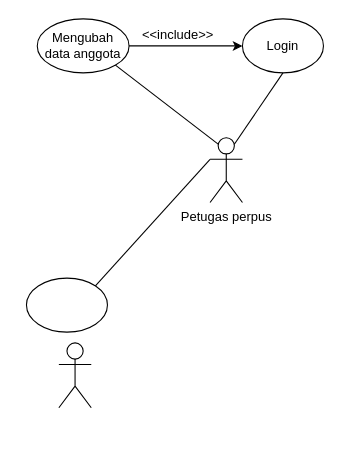
This 342x449 diagram has some shape labels left out. The centre of each missing label's shape, as x and y in pixels:
"Mencari pustaka" goes at [66,304].
"Pengunjung perpus" goes at [74,375].
